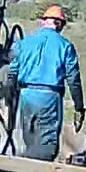gloves: (0, 97, 10, 131), (73, 108, 85, 134)
helmet: (40, 5, 66, 20)
vest: (20, 31, 69, 95)
